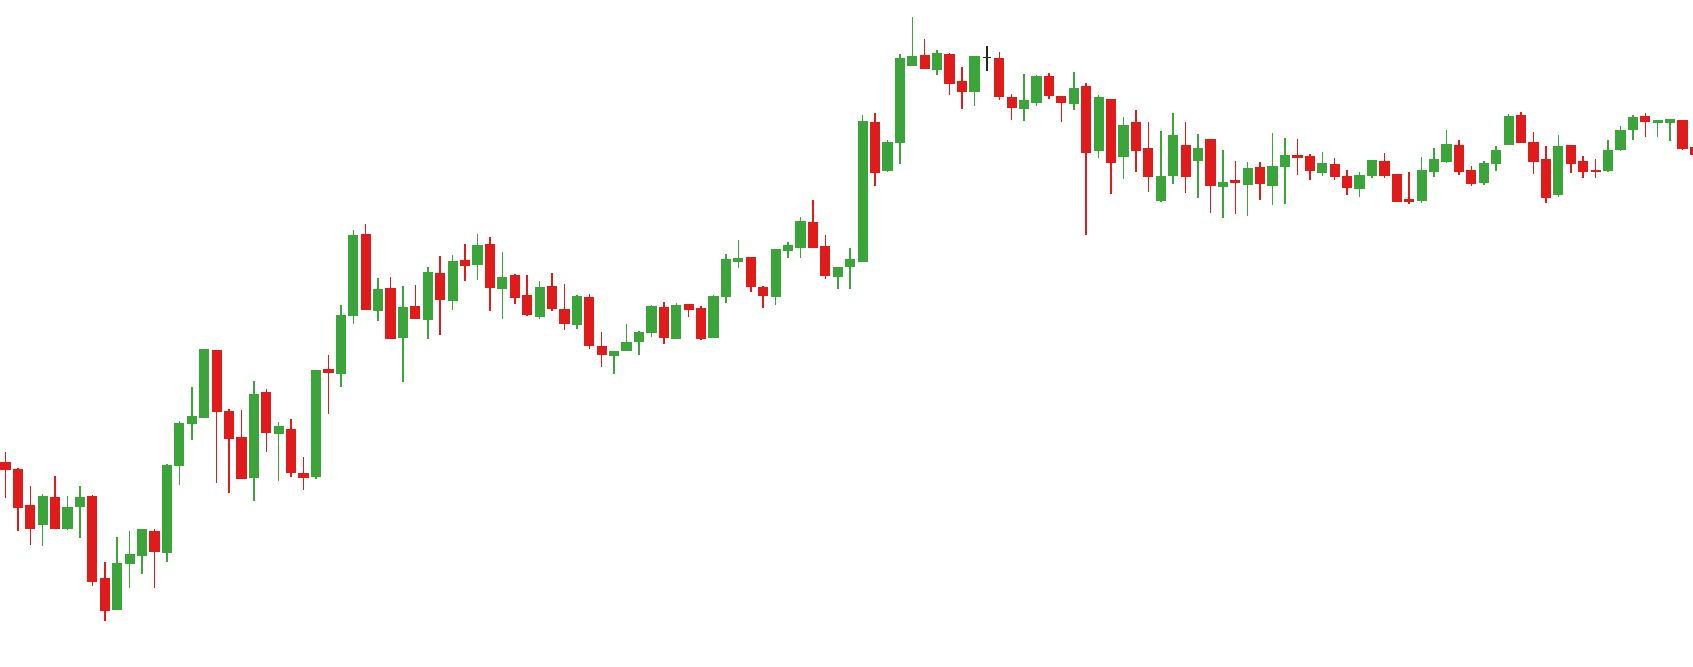buy: (1465, 134, 1567, 205)
